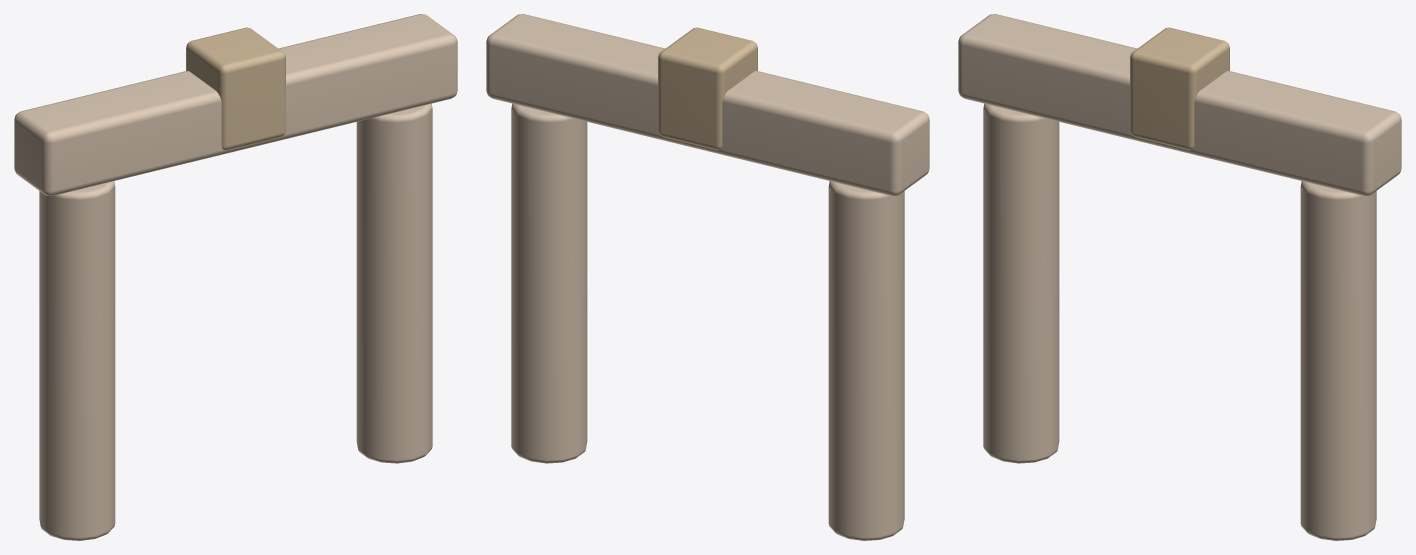
Rendered from prop_ruin_arch.glb.
3 renders of one model, left to right at view 1: azimuth 30°, elevation 25°; view 2: azimuth 150°, elevation 25°; view 3: azimuth 330°, elevation 25°, orthographic.
Visible parts, largest first — view 1: arch_top, arch_col1, arch_col2, arch_key; view 2: arch_top, arch_col1, arch_col2, arch_key; view 3: arch_top, arch_col2, arch_col1, arch_key.
Part boxes in pixels (bbox=[...]): arch_top: bbox=[14, 14, 457, 196]; arch_col1: bbox=[39, 181, 115, 540]; arch_col2: bbox=[356, 103, 432, 463]; arch_key: bbox=[186, 27, 285, 150]; arch_top: bbox=[486, 14, 929, 196]; arch_col1: bbox=[828, 181, 904, 540]; arch_col2: bbox=[511, 103, 587, 463]; arch_key: bbox=[658, 27, 757, 150]; arch_top: bbox=[958, 14, 1401, 196]; arch_col2: bbox=[1300, 181, 1376, 540]; arch_col1: bbox=[983, 103, 1059, 463]; arch_key: bbox=[1130, 27, 1229, 150].
Bounding box in the file's own units: 1.62 × 1.65 × 0.26.
